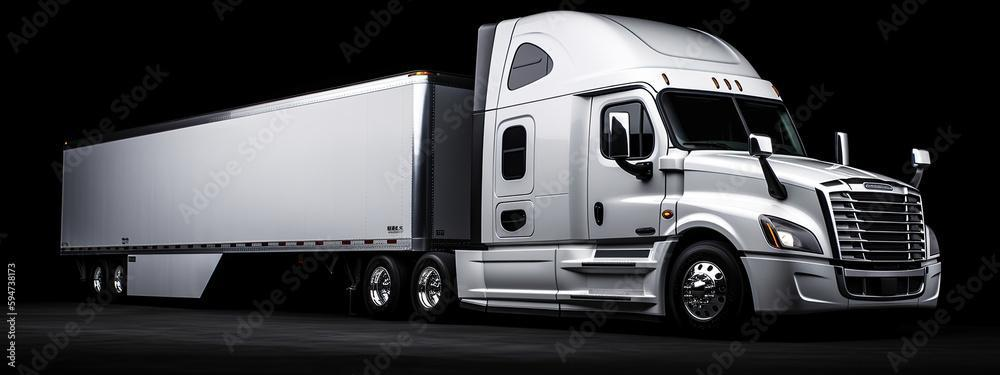truck: (439, 0, 990, 371)
